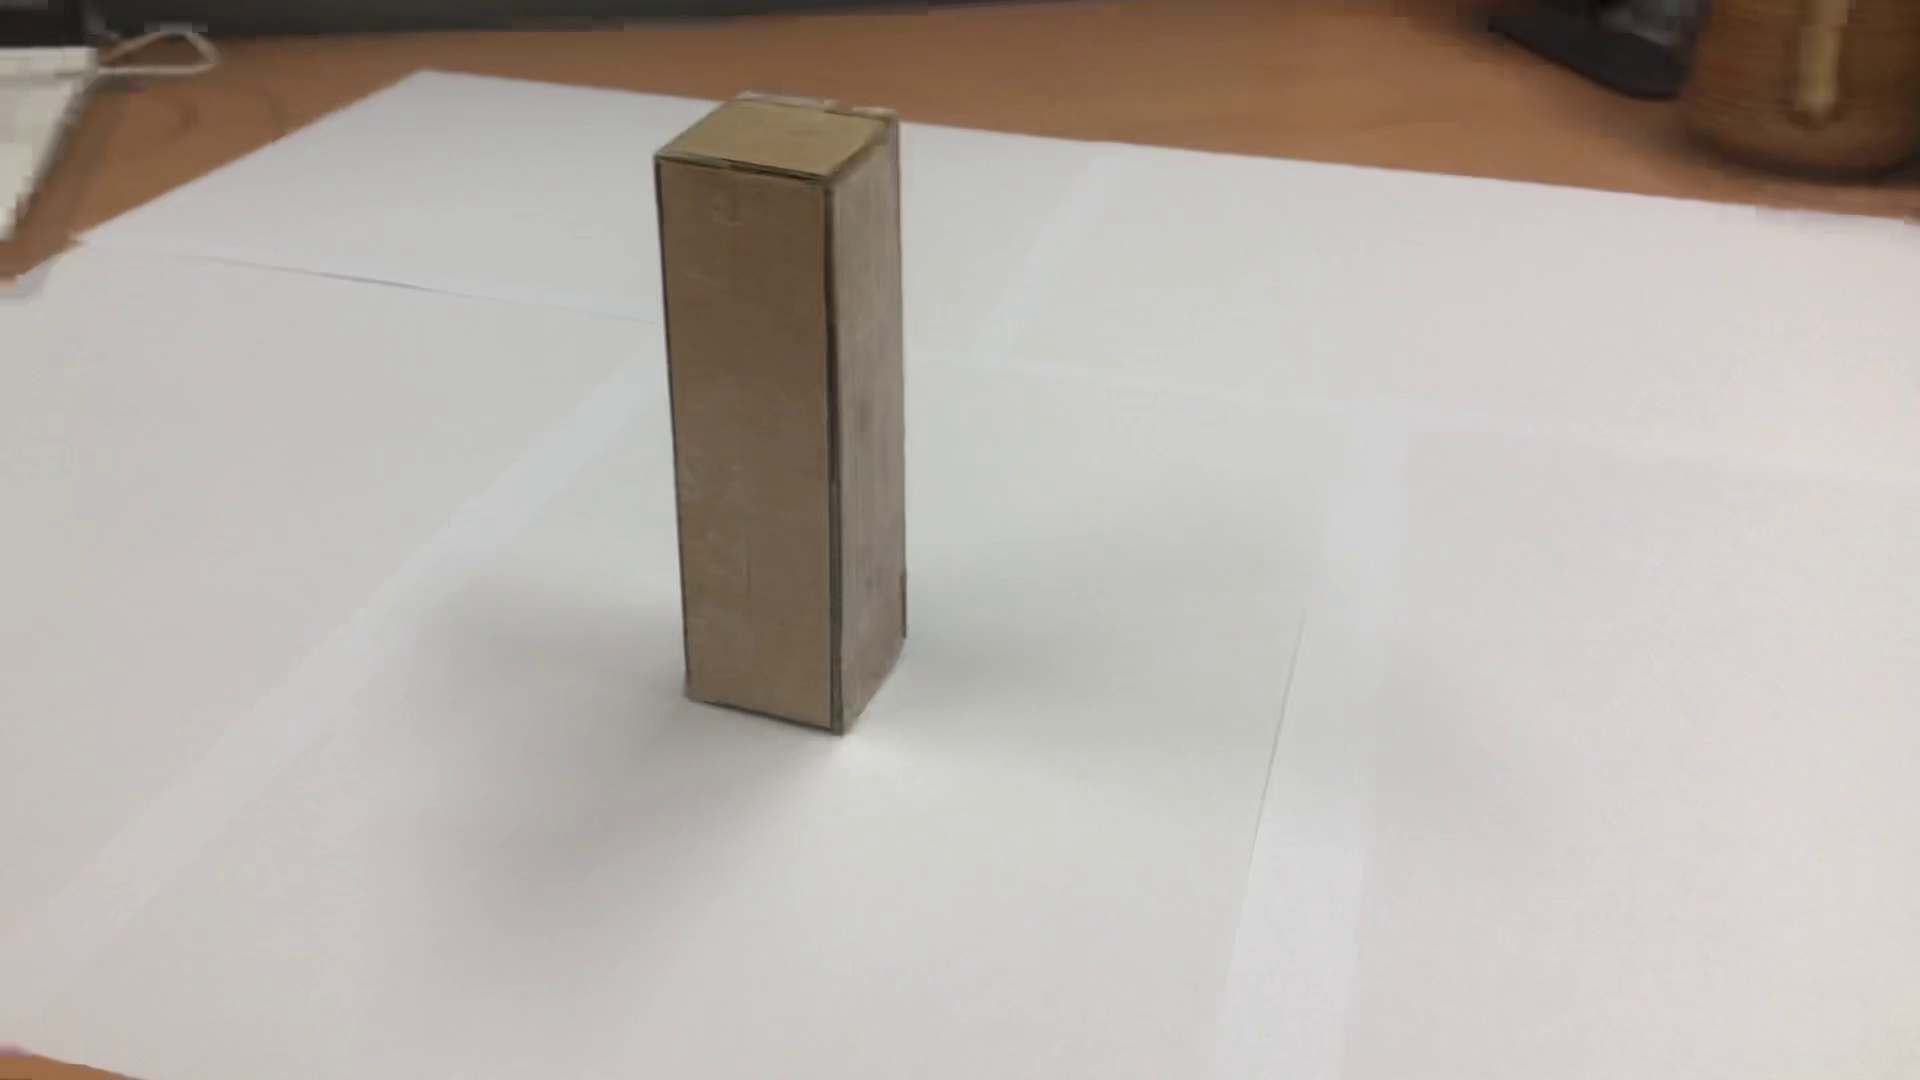box: (634, 61, 938, 752)
